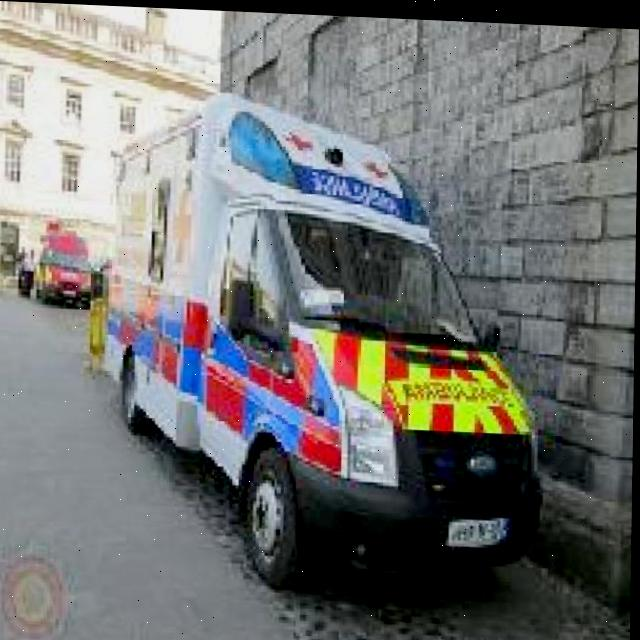emergency: (85, 84, 553, 598)
